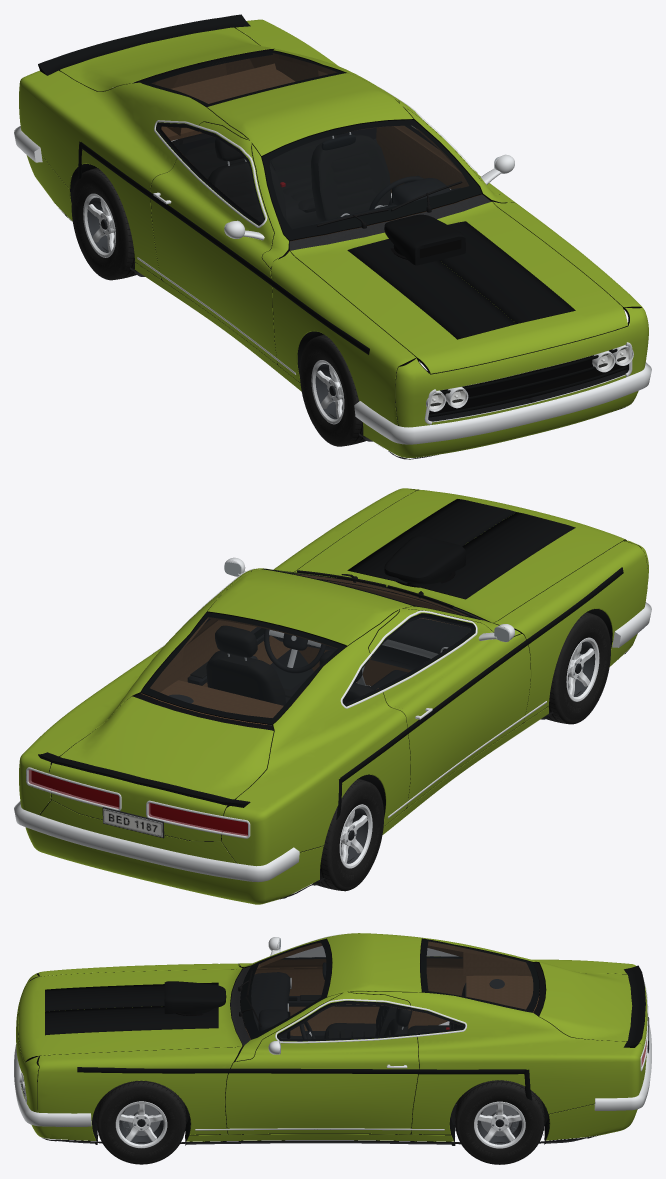
File: shaker-hood-coupe.glb
3 views of the same model, one above another, from view 1: azimuth 30°, elevation 25°; view 2: azimuth 150°, elevation 25°; view 3: azimuth 270°, elevation 25° (orthographic). The views are drawn at different scales.
Parts seen in each view (by area): view 1: Body, Wheel_RR, Wheel_FR; view 2: Body, Wheel_RR, Wheel_FR, Steering_Wheel; view 3: Body, Wheel_RL, Wheel_FL.
Boxes of the visible parts, x1=… form: Body: x1=14, y1=14, x2=651, y2=459; Wheel_RR: x1=71, y1=167, x2=138, y2=280; Wheel_FR: x1=300, y1=334, x2=368, y2=446; Body: x1=14, y1=488, x2=651, y2=904; Wheel_RR: x1=313, y1=778, x2=383, y2=891; Wheel_FR: x1=544, y1=612, x2=610, y2=724; Steering_Wheel: x1=264, y1=629, x2=325, y2=673; Body: x1=14, y1=933, x2=651, y2=1145; Wheel_RL: x1=455, y1=1080, x2=544, y2=1164; Wheel_FL: x1=96, y1=1080, x2=186, y2=1164.
Size of the model in its own units: 2.04 by 1.37 by 4.97.
50 materials, 9 textured.
